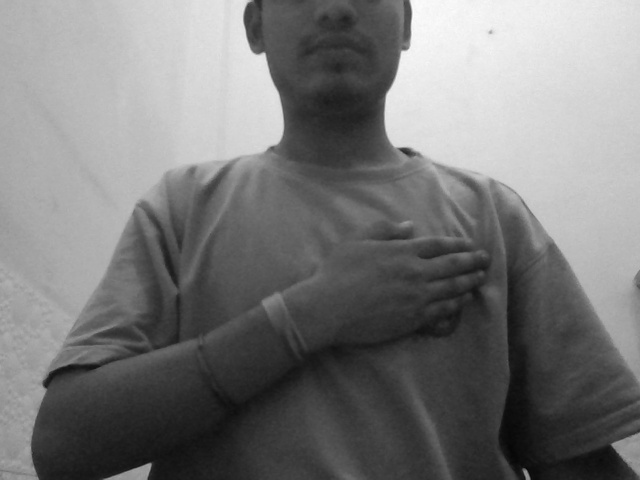Sorry: (293, 209, 498, 358)
